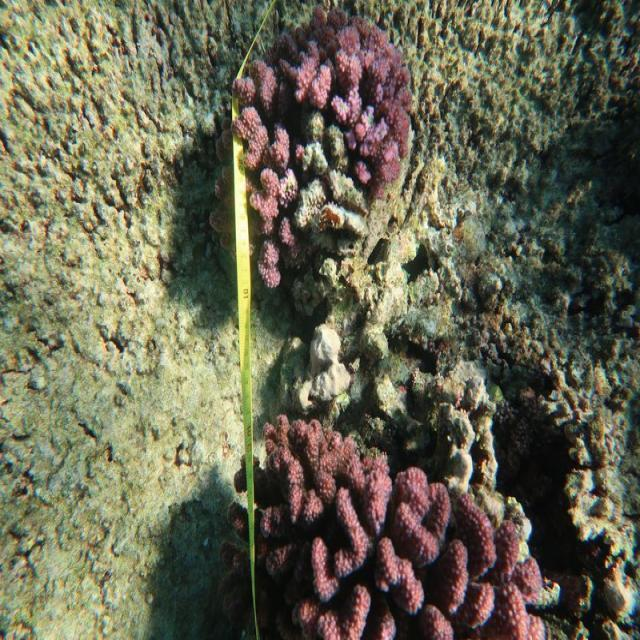Healthy Coral: (248, 414, 541, 640), (230, 35, 409, 273)
